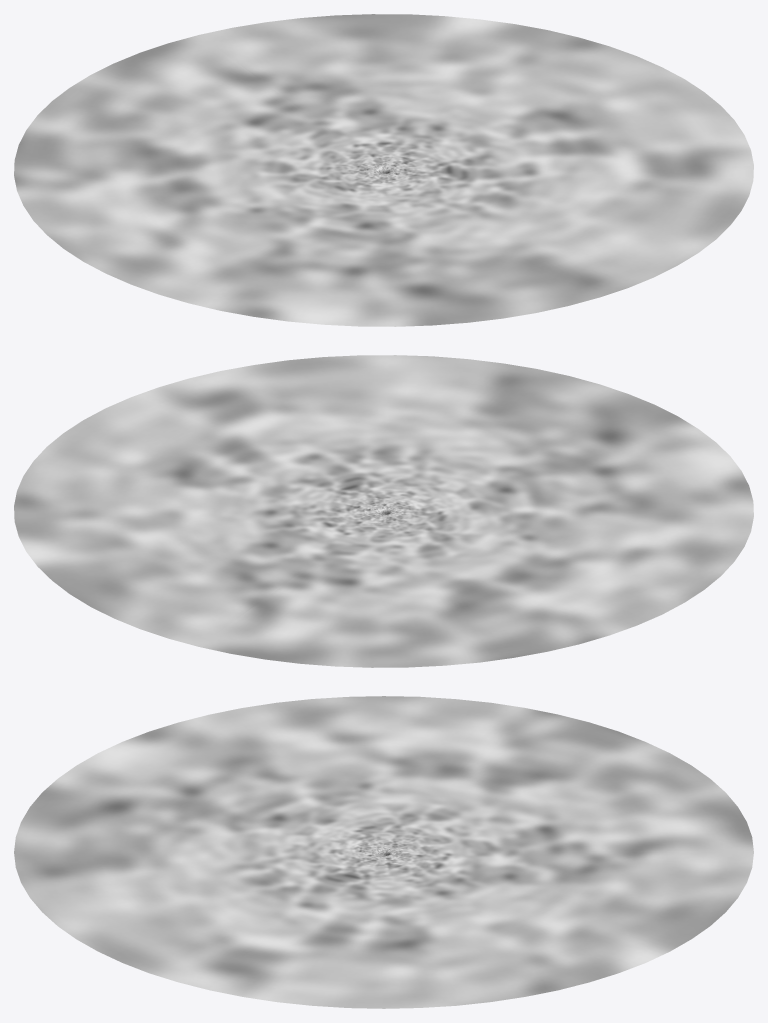
Rendered from field_openning_water.fbx.
3 renders of one model, top to bottom at view 1: azimuth 30°, elevation 25°; view 2: azimuth 150°, elevation 25°; view 3: azimuth 270°, elevation 25°, orthographic.
Visible parts, largest first — view 1: field_openning_water; view 2: field_openning_water; view 3: field_openning_water.
Boxes of the visible parts, x1,y1,x2,y2 form: field_openning_water: [14, 14, 753, 326]; field_openning_water: [14, 355, 753, 667]; field_openning_water: [14, 696, 753, 1008].
Size of the model in its own units: 5623787 by 163432 by 5623788.
Materials: 1 (1 with a texture image).
